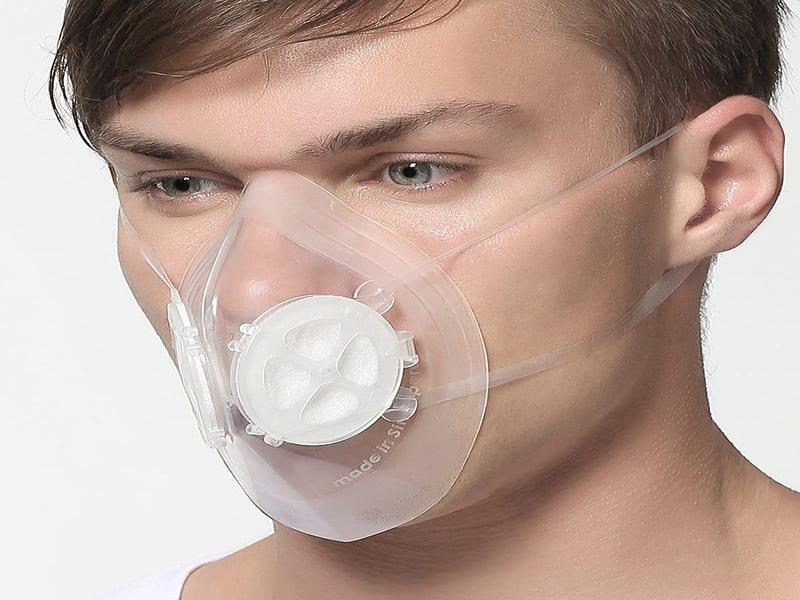with_mask: (46, 1, 790, 556)
